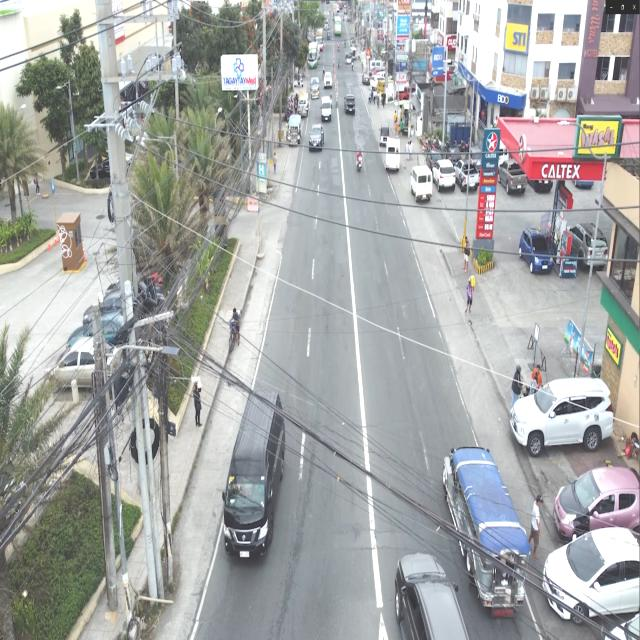bicycle: (224, 305, 245, 355)
bus: (306, 40, 318, 70), (332, 14, 343, 36), (314, 28, 324, 52)
car: (431, 436, 531, 622), (222, 388, 288, 567), (505, 372, 618, 460), (538, 524, 640, 618), (383, 545, 472, 640), (546, 462, 640, 550), (42, 333, 122, 395), (561, 217, 611, 279), (66, 311, 137, 351), (83, 289, 152, 329), (514, 224, 556, 281), (494, 156, 528, 199), (452, 156, 481, 200), (408, 162, 434, 206), (430, 158, 458, 198), (384, 137, 402, 175), (308, 122, 326, 152), (288, 114, 302, 146), (319, 94, 333, 124), (298, 90, 310, 118), (343, 92, 357, 116), (370, 74, 385, 94), (309, 75, 320, 100), (323, 70, 333, 90), (348, 46, 358, 62), (362, 71, 371, 87), (322, 17, 330, 31)
motorcycle: (426, 134, 443, 152), (418, 134, 432, 153), (444, 136, 458, 154), (459, 137, 473, 152), (356, 147, 364, 172), (329, 92, 334, 106), (322, 66, 326, 82), (344, 37, 346, 49), (338, 41, 340, 52)
person: (526, 490, 547, 564), (190, 378, 207, 432), (507, 362, 524, 414), (528, 359, 544, 405), (619, 426, 638, 464), (462, 273, 478, 314), (462, 232, 472, 276), (272, 152, 278, 176), (404, 139, 410, 161), (399, 117, 405, 137), (283, 110, 290, 127), (376, 94, 382, 111), (285, 120, 290, 140), (372, 88, 377, 106), (394, 110, 398, 130), (408, 140, 412, 160), (368, 87, 372, 106), (395, 117, 399, 136), (382, 93, 386, 110), (371, 85, 374, 107), (293, 100, 298, 112), (397, 123, 401, 137), (295, 91, 299, 103), (337, 59, 341, 70), (350, 59, 354, 70), (290, 94, 294, 104)
truck: (332, 2, 337, 14)
